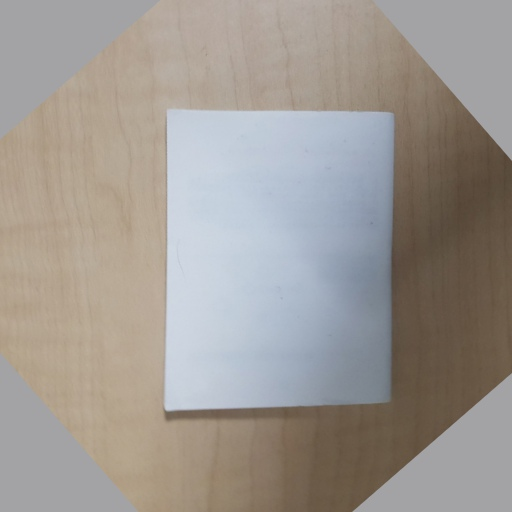Paper_2: (148, 97, 413, 424)
